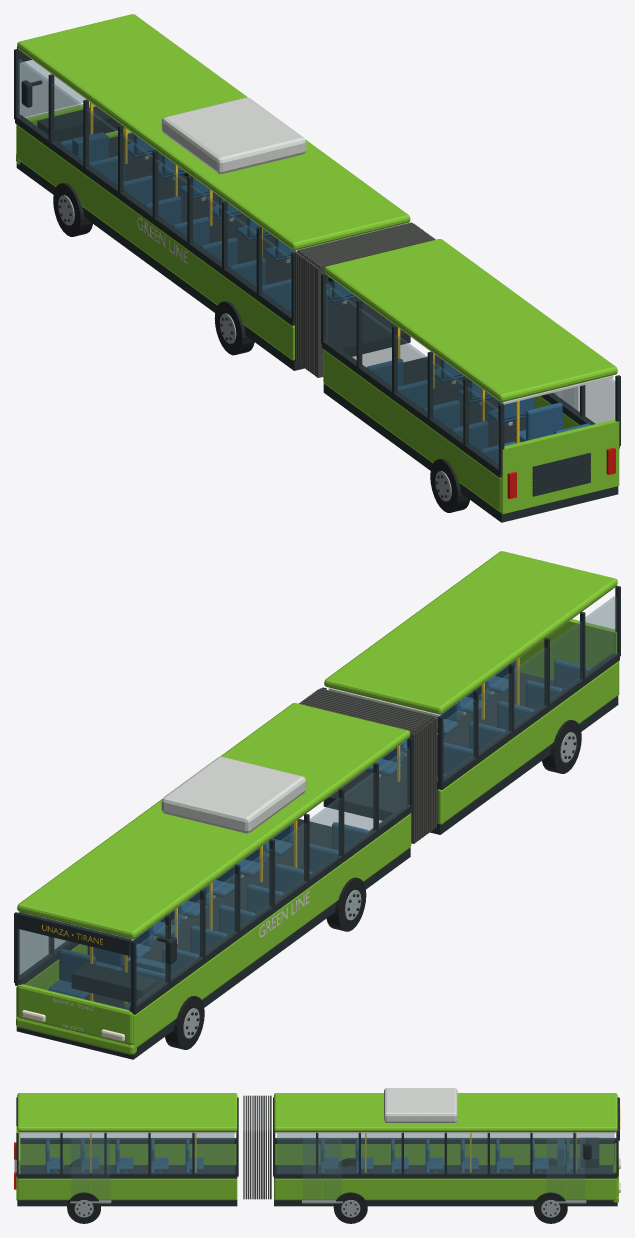
Rendered from tirana-articulated-bus.glb.
The picture shows the model from 3 angles, top to bottom: view 1: azimuth 30°, elevation 25°; view 2: azimuth 150°, elevation 25°; view 3: azimuth 270°, elevation 25°; orthographic projection. The views are drawn at different scales.
Visible parts, largest first — view 1: Front roof, Rear roof, Front floor, Front window band, Rear floor, Rear window band, Seat cushion, Front ceiling, Accordion fold, Seat cushion.016, Wheel.002, Wheel (+1 smaller); view 2: Front roof, Rear roof, Front window band, Front floor, Rear floor, Rear window band, Seat cushion, Front ceiling, Accordion fold, Seat cushion.016, Wheel, Wheel.002 (+2 smaller); view 3: Front roof, Rear roof, Front window band, Front floor, Rear window band, Rear floor, Front ceiling, Accordion fold, Seat cushion, Seat cushion.016, Door_1_1, Door_1_-1 (+12 smaller).
Boxes of the visible parts, x1,y1,x2,y2 form: Front roof: (16, 14, 410, 360); Rear roof: (323, 239, 619, 514); Front floor: (14, 46, 410, 370); Front window band: (18, 59, 290, 316); Rear floor: (321, 273, 620, 522); Rear window band: (325, 284, 614, 468); Seat cushion: (59, 132, 356, 311); Front ceiling: (22, 52, 404, 252); Accordion fold: (295, 222, 435, 377); Seat cushion.016: (367, 359, 590, 463); Wheel.002: (430, 459, 469, 512); Wheel: (53, 183, 92, 236); Front roof: (16, 703, 411, 1054); Rear roof: (324, 551, 619, 824); Front window band: (19, 748, 409, 1010); Front floor: (14, 737, 413, 1059); Rear floor: (321, 585, 620, 834); Rear window band: (443, 596, 616, 780); Seat cushion: (48, 822, 368, 1009); Front ceiling: (23, 740, 405, 940); Accordion fold: (299, 688, 436, 843); Seat cushion.016: (365, 659, 590, 780); Wheel: (165, 996, 204, 1049); Wheel.002: (542, 720, 581, 773); Front roof: (274, 1093, 618, 1202); Rear roof: (16, 1093, 237, 1200); Front window band: (277, 1133, 614, 1173); Front floor: (273, 1097, 619, 1206); Rear window band: (20, 1133, 234, 1173); Rear floor: (14, 1097, 238, 1206); Front ceiling: (275, 1088, 615, 1133); Accordion fold: (243, 1095, 271, 1199); Seat cushion: (321, 1139, 583, 1172); Seat cushion.016: (45, 1139, 203, 1172); Door_1_1: (303, 1138, 321, 1200); Door_1_-1: (323, 1138, 341, 1200).
Bounding box in the file's own units: 3.23 × 3.47 × 18.21.
